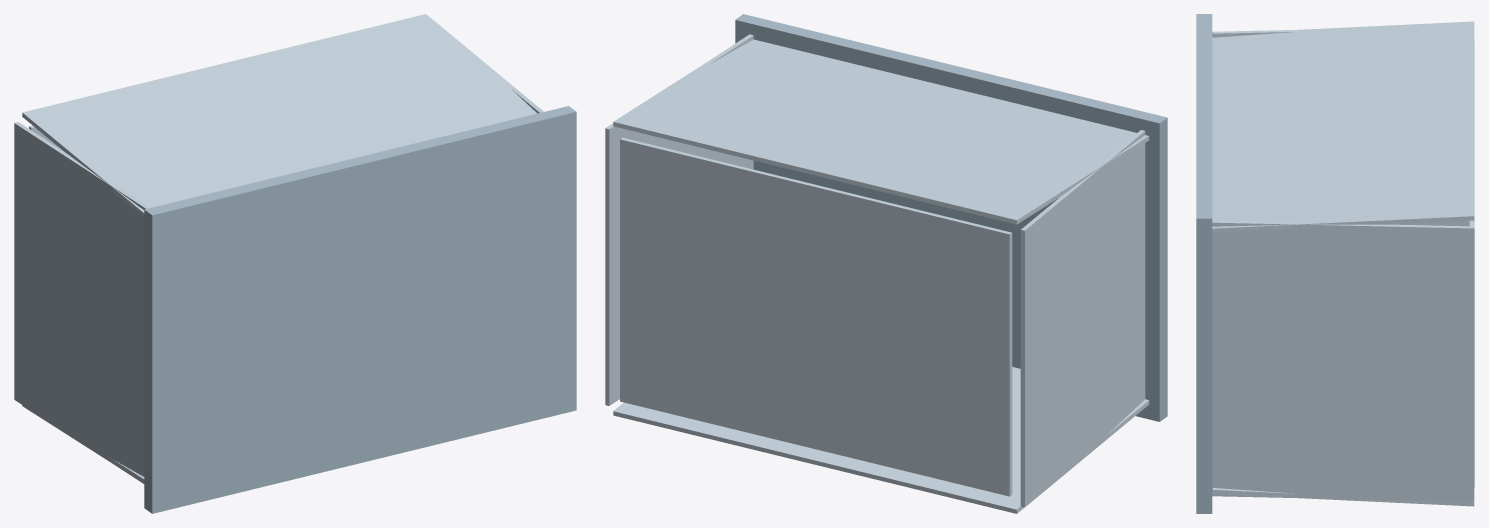
3 renders of one model, left to right at view 1: azimuth 30°, elevation 25°; view 2: azimuth 150°, elevation 25°; view 3: azimuth 270°, elevation 25°, orthographic.
Parts seen in each view (by area): view 1: part_0, part_1, part_4; view 2: part_5, part_1, part_4, part_0, part_3, part_2; view 3: part_2, part_1, part_0, part_3, part_4, part_5.
Boxes of the visible parts, <box> form: part_0: <box>144,106,576,513</box>; part_1: <box>22,14,536,217</box>; part_4: <box>14,122,149,483</box>; part_5: <box>620,137,1012,496</box>; part_1: <box>613,39,1149,224</box>; part_4: <box>1020,130,1145,507</box>; part_0: <box>735,14,1167,421</box>; part_3: <box>613,367,1149,513</box>; part_2: <box>605,34,753,405</box>; part_2: <box>1212,220,1474,501</box>; part_1: <box>1212,21,1474,232</box>; part_0: <box>1196,14,1212,513</box>; part_3: <box>1212,488,1474,506</box>; part_4: <box>1212,30,1469,226</box>; part_5: <box>1469,40,1474,487</box>.
Size of the model in its own units: 0.61 by 0.41 by 0.35.
